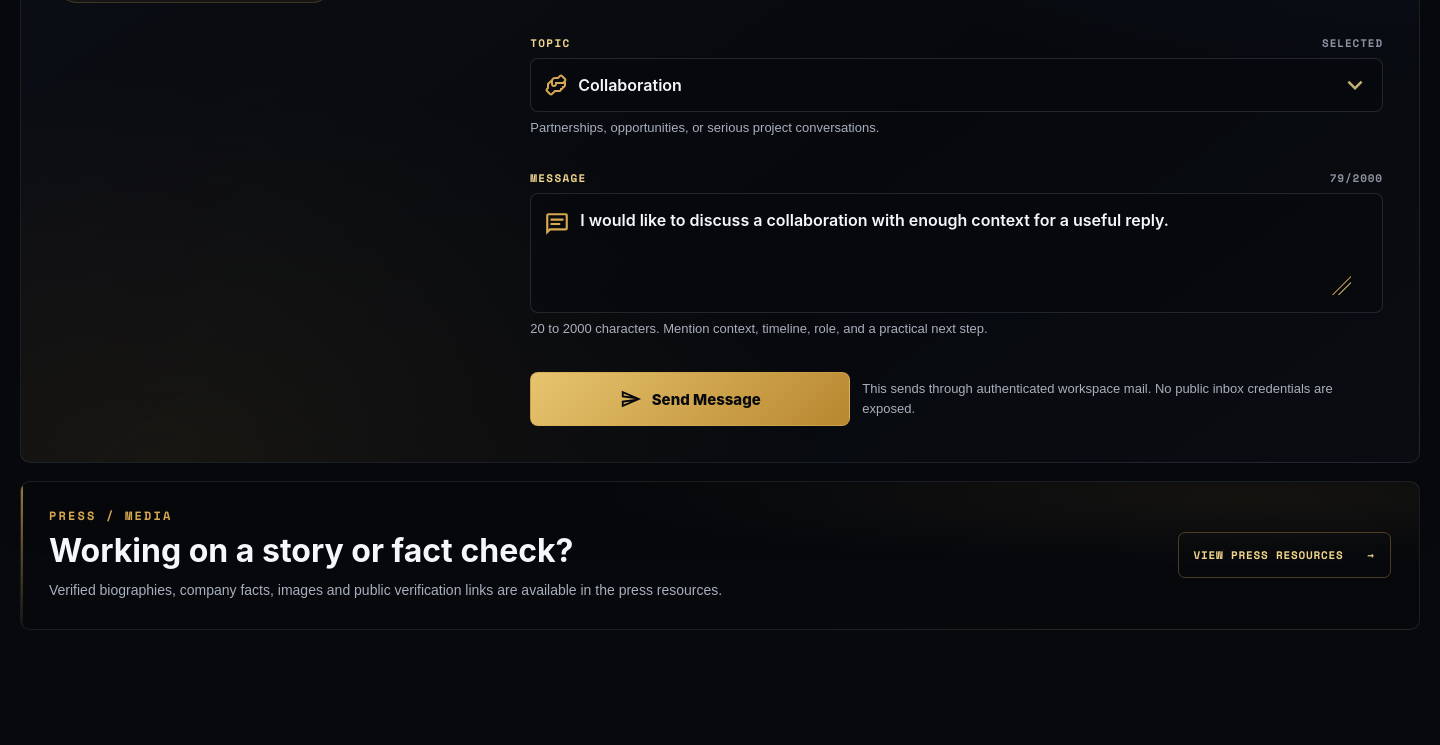
it: ContactComponent › shows a restrained rate-limit failure message
(page scrolled)
Click the submit button: click(690, 399) [530,372,850,426]
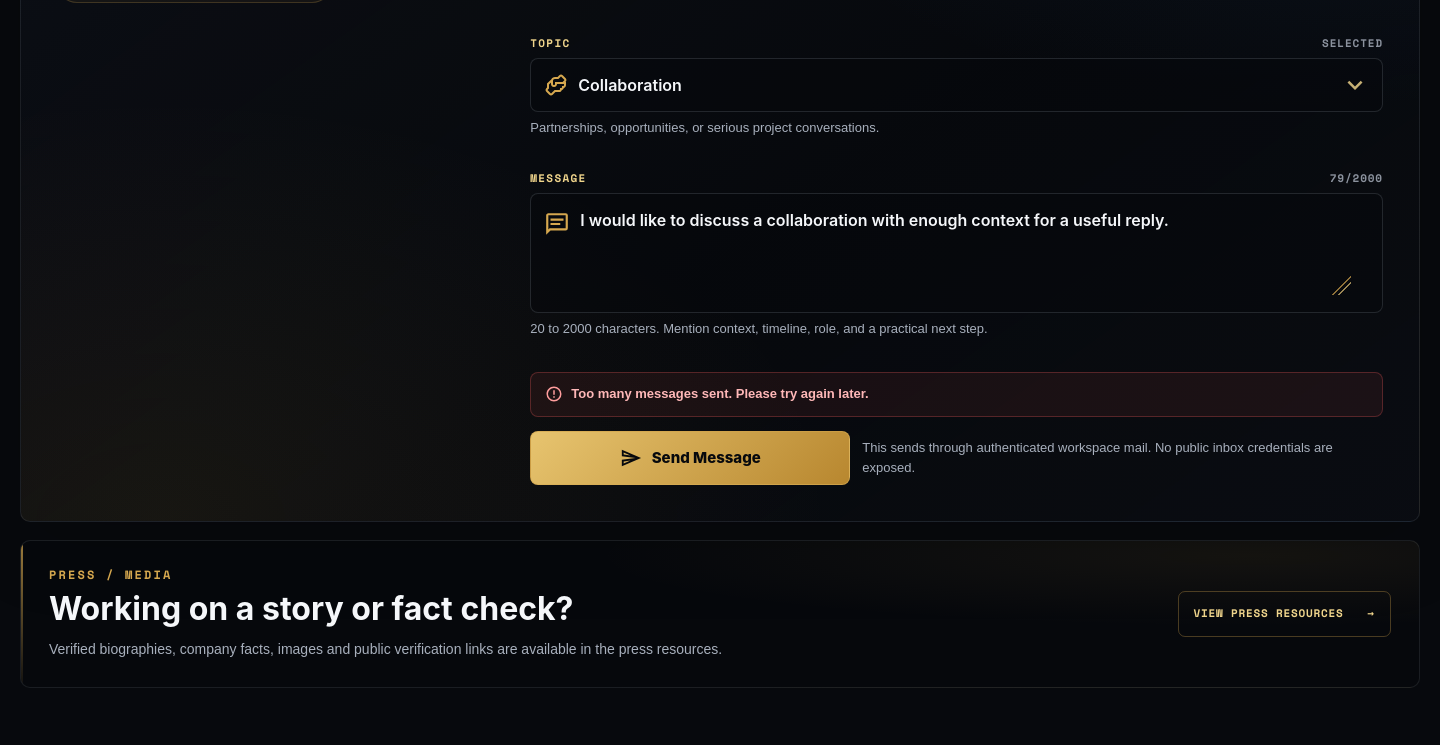
Check: the text "Too many messages sent. Please try again later." is shown, box [571,386,869,401]
